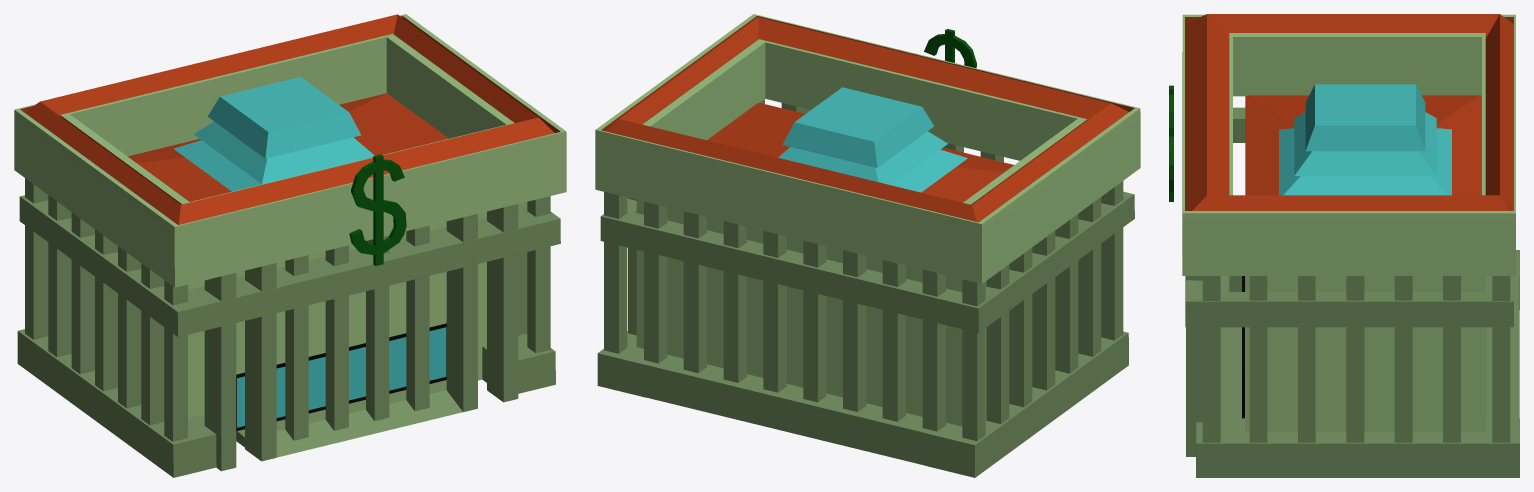
File: bank (1).fbx
3 views of the same model, side by side, from view 1: azimuth 30°, elevation 25°; view 2: azimuth 150°, elevation 25°; view 3: azimuth 270°, elevation 25° (orthographic). The views are drawn at different scales.
Parts seen in each view (by area): view 1: BANK; view 2: BANK; view 3: BANK.
Part boxes in pixels (left/top/right/bottom): BANK: left=14, top=14, right=566, bottom=477; BANK: left=595, top=14, right=1140, bottom=477; BANK: left=1169, top=14, right=1519, bottom=477.
Size of the model in its own units: 727 by 503 by 543.
